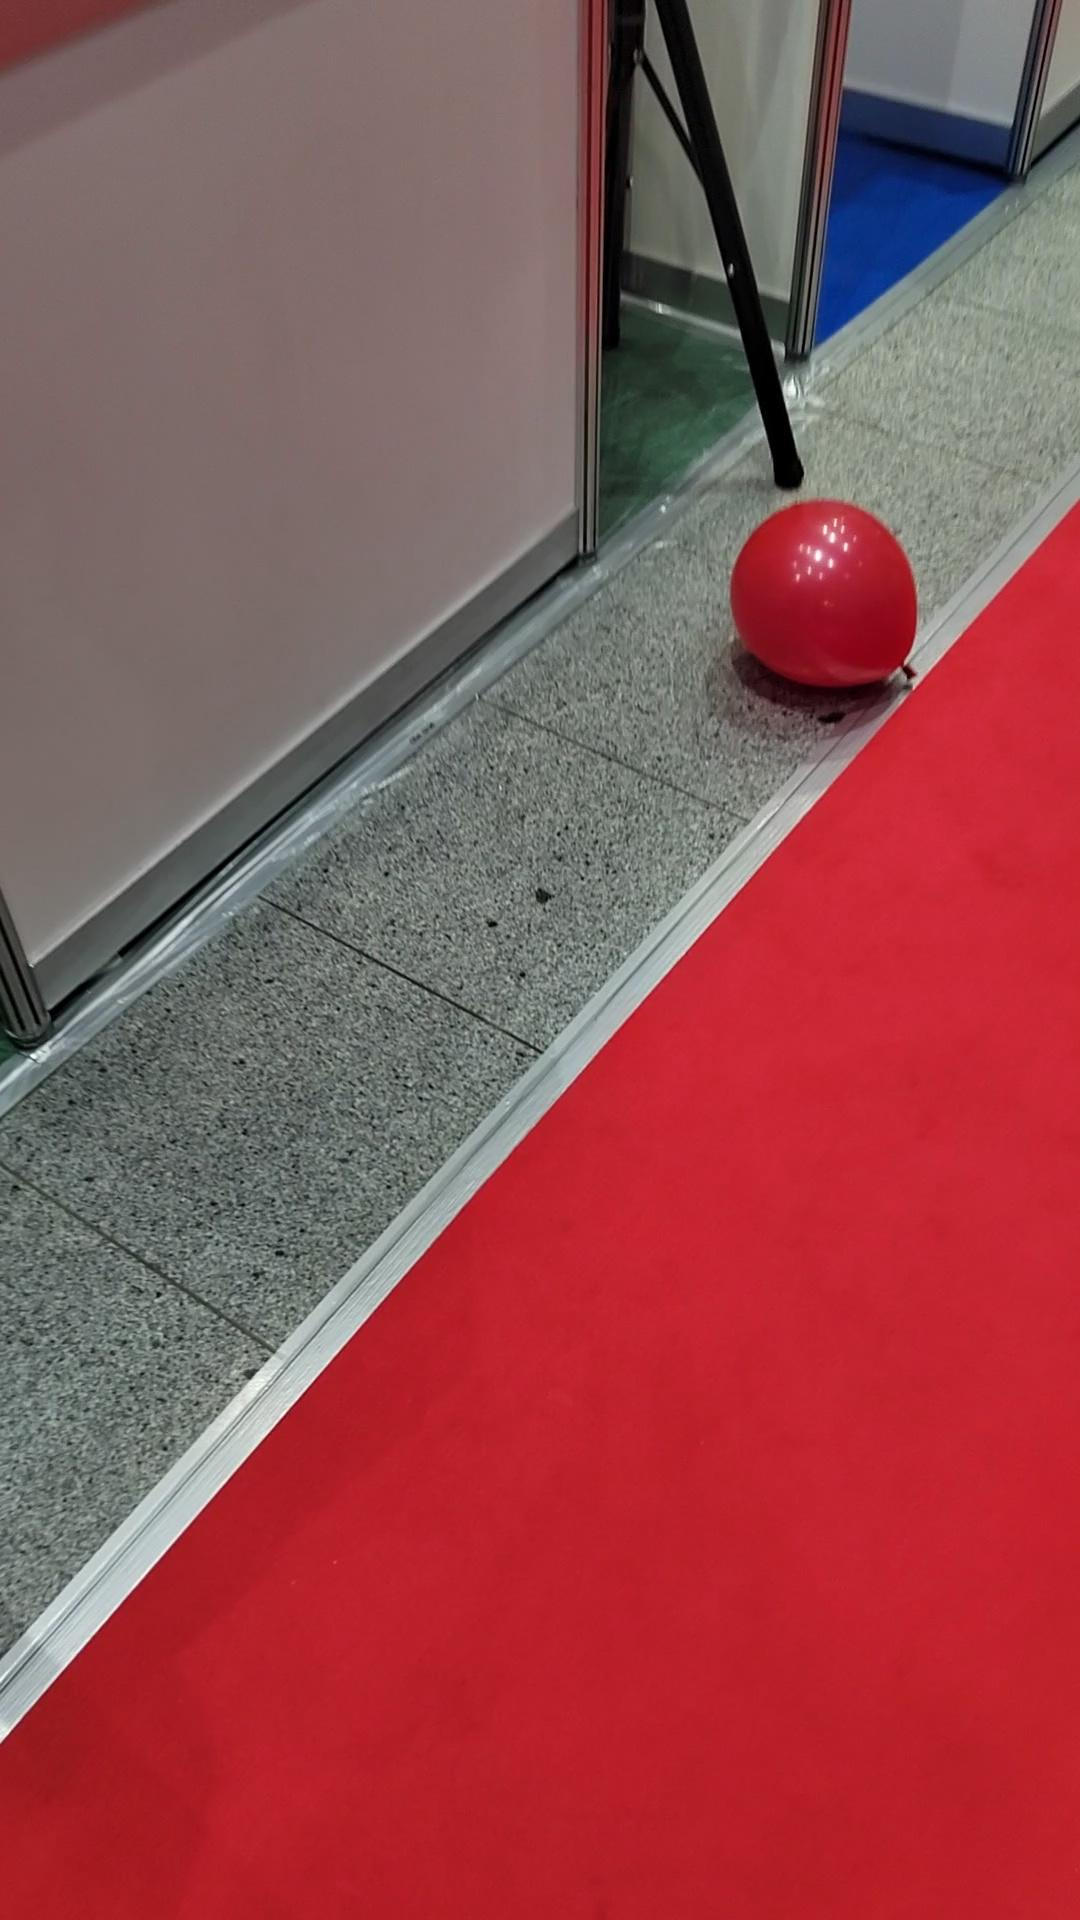red: (724, 497, 920, 699)
